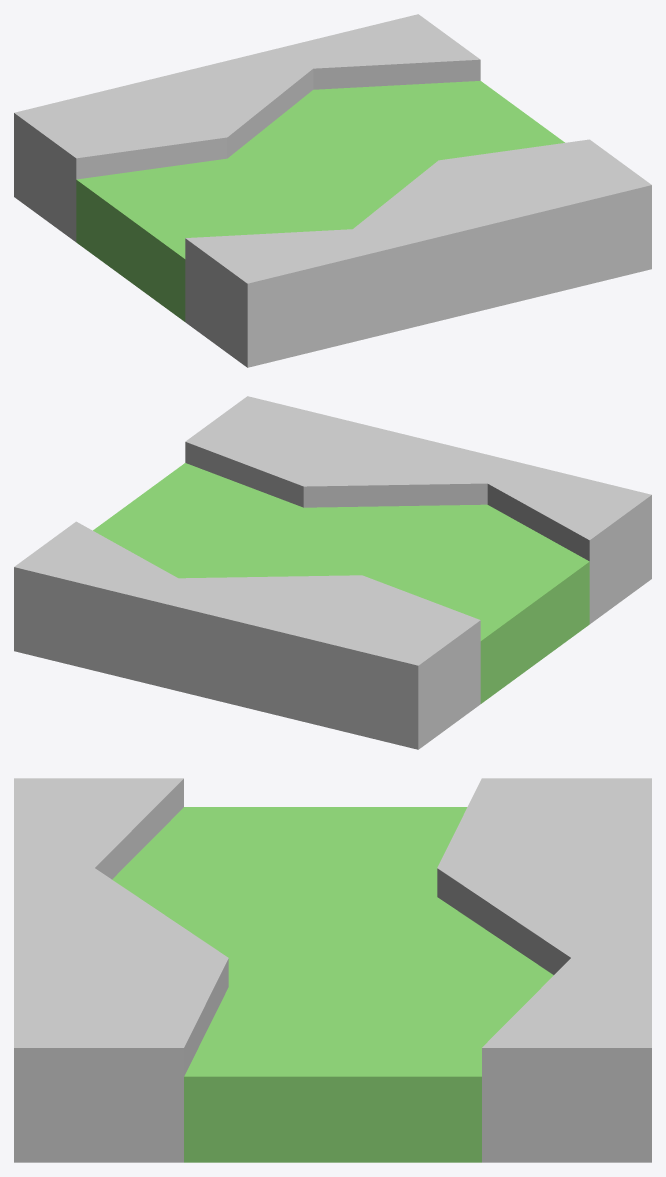
Rendered from RoadGrassLine.fbx.
The picture shows the model from 3 angles, top to bottom: view 1: azimuth 30°, elevation 25°; view 2: azimuth 150°, elevation 25°; view 3: azimuth 270°, elevation 25°; orthographic projection. The views are drawn at different scales.
Visible parts, largest first — view 1: RoadGrassLine; view 2: RoadGrassLine; view 3: RoadGrassLine.
Part boxes in pixels (x1,y1,x2,y2): RoadGrassLine: [14, 14, 651, 367]; RoadGrassLine: [14, 396, 651, 749]; RoadGrassLine: [14, 778, 651, 1162].
Size of the model in its own units: 200 by 39.76 by 200.
